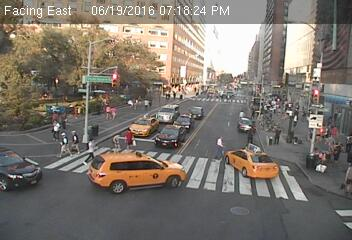neg: (51, 73, 66, 93), (191, 104, 203, 120), (107, 63, 119, 78)
pos: (64, 128, 83, 154), (210, 136, 229, 161), (54, 131, 71, 154), (121, 127, 138, 149), (271, 125, 286, 146), (48, 117, 61, 134), (110, 132, 122, 148), (141, 96, 150, 109), (108, 106, 116, 117)
